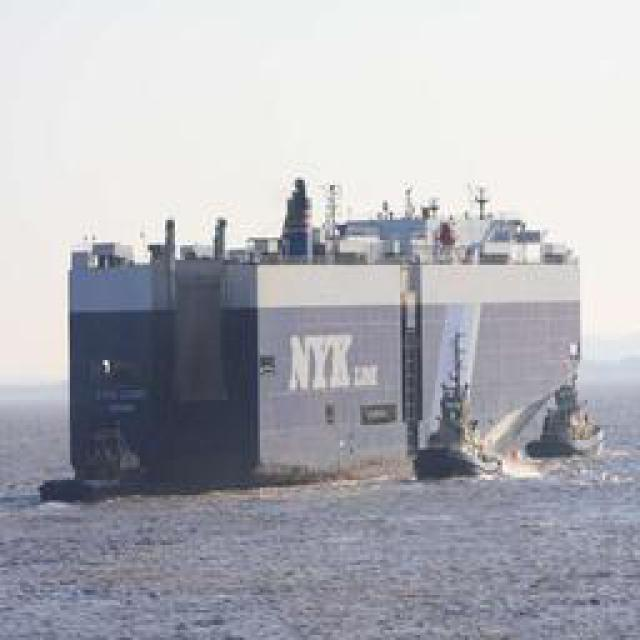Ship: (40, 167, 606, 507), (408, 315, 515, 492), (519, 335, 609, 465)
